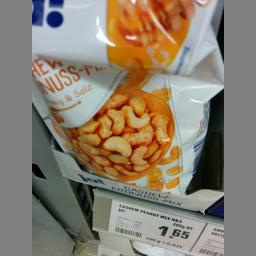nuts: (31, 54, 210, 198)
